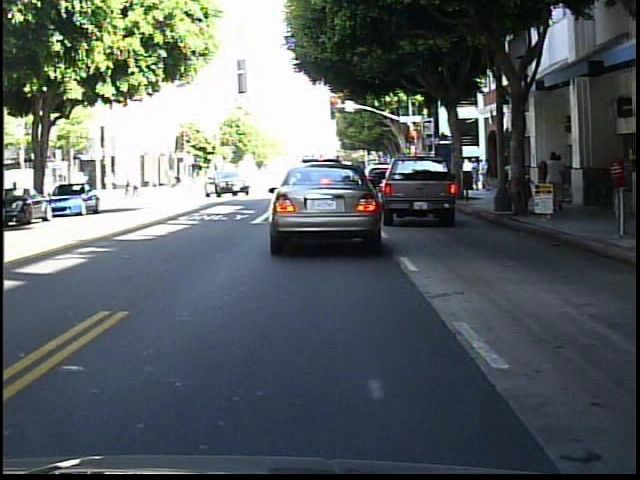person: (544, 151, 567, 209), (557, 152, 571, 206)
